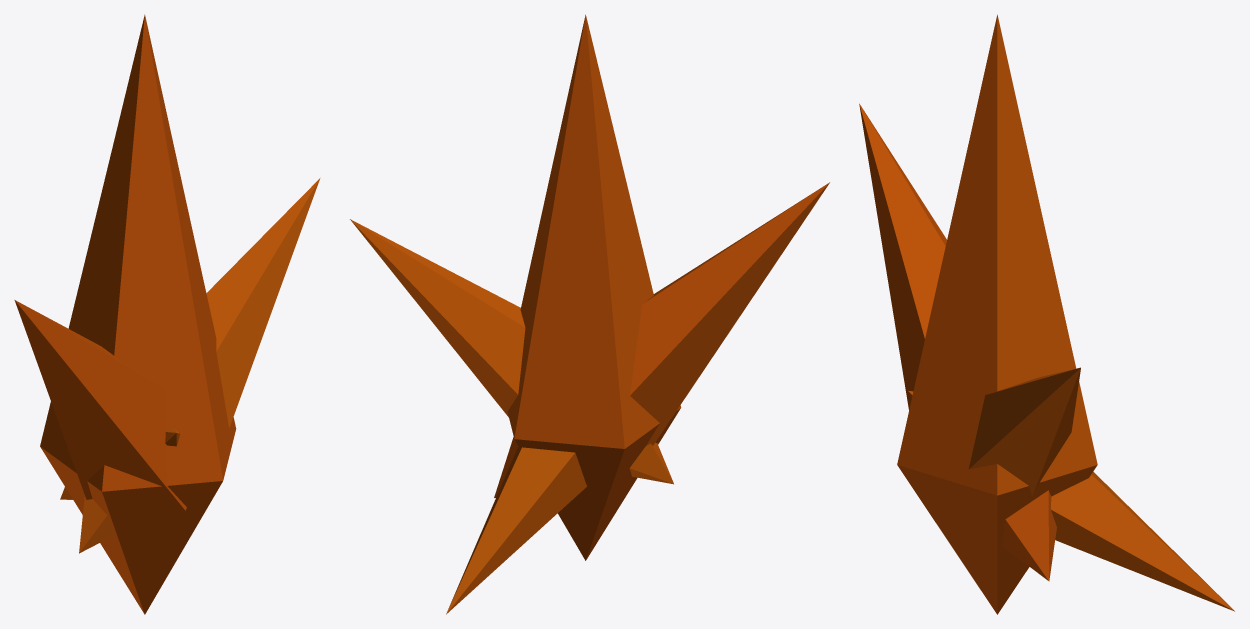
The model's file is ice_c.glb.
3 views of the same model, side by side, from view 1: azimuth 30°, elevation 25°; view 2: azimuth 150°, elevation 25°; view 3: azimuth 270°, elevation 25° (orthographic). The views are drawn at different scales.
Visible parts, largest first — view 1: ice_c; view 2: ice_c; view 3: ice_c.
Boxes of the visible parts, box(x1,y1,x2,y2) form: ice_c: box(14, 14, 320, 614); ice_c: box(350, 14, 829, 614); ice_c: box(859, 14, 1234, 614).
Size of the model in its own units: 1.6 by 2.2 by 1.25.
